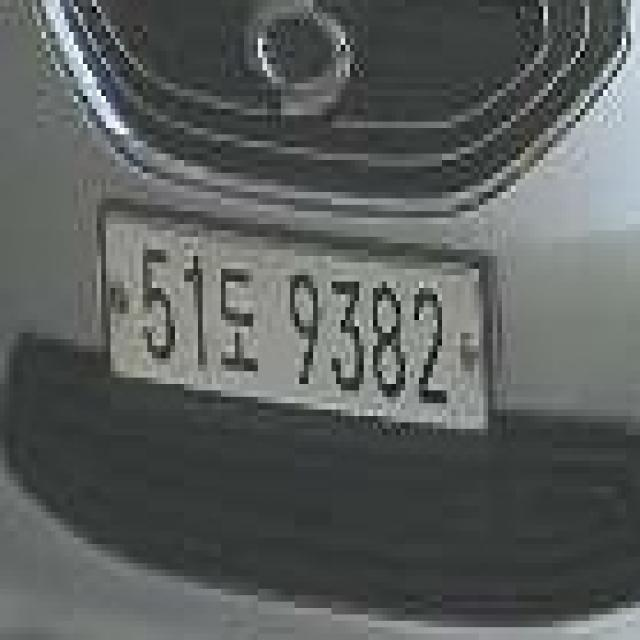1: (183, 243, 211, 374)
2: (412, 280, 453, 414)
3: (328, 268, 368, 392)
5: (136, 235, 179, 372)
8: (370, 268, 410, 408)
9: (282, 261, 322, 394)
do: (217, 256, 262, 384)
license_plate: (91, 180, 520, 467)
